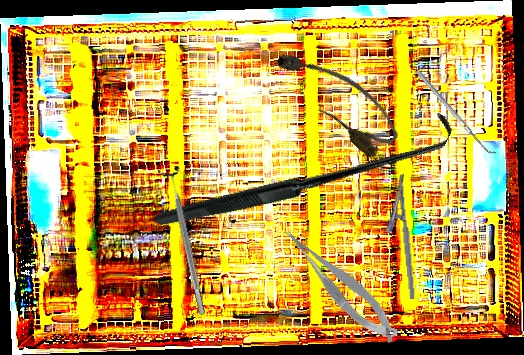Cannula: (269, 33, 407, 163)
Fixation Ring: (156, 164, 215, 318)
Hook Surgical: (152, 22, 457, 320)
Micro Scissor: (279, 214, 404, 354)
Needle Holder: (381, 174, 416, 301)
Spatula Surgical: (416, 66, 497, 159)
